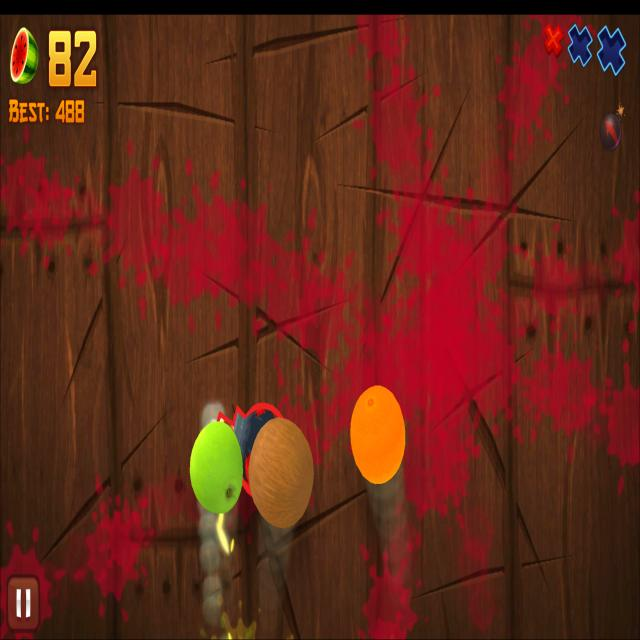bomb: (218, 402, 284, 497)
fruit: (248, 418, 316, 529), (350, 386, 406, 485), (191, 420, 243, 514)
